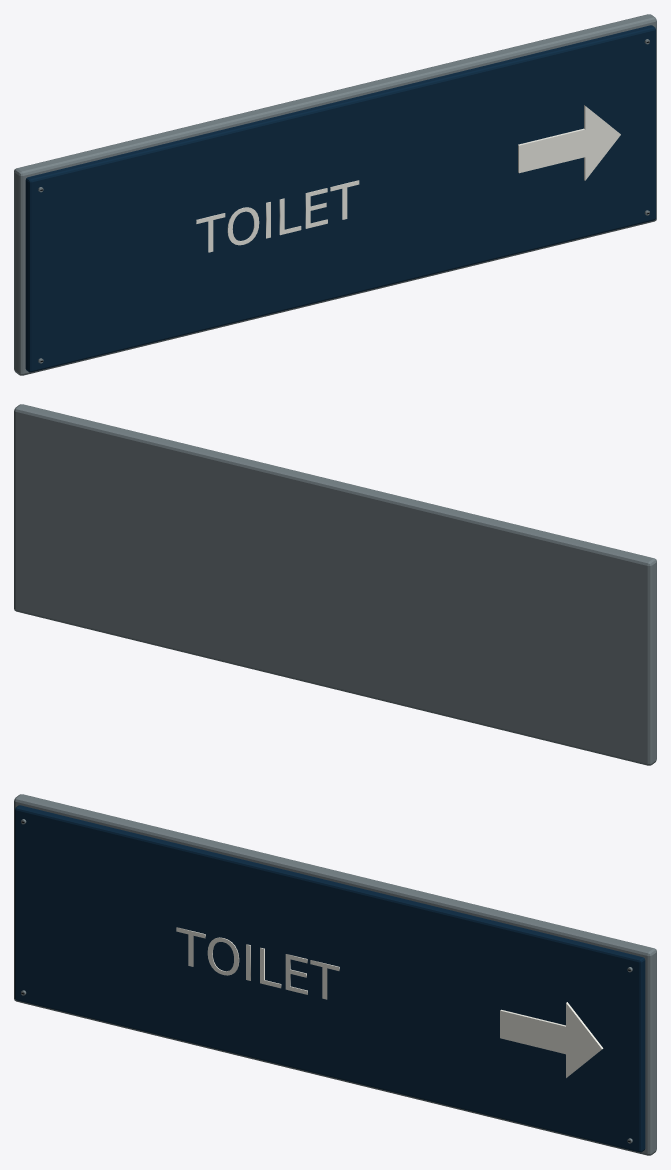
File: OAA_Papan_Arah_Toilet_Kanan.fbx
The picture shows the model from 3 angles, top to bottom: view 1: azimuth 30°, elevation 25°; view 2: azimuth 150°, elevation 25°; view 3: azimuth 330°, elevation 25°; orthographic projection.
Visible parts, largest first — view 1: Body; view 2: Body; view 3: Body.
Part boxes in pixels (x1,y1,x2,y2): Body: (14, 14, 656, 375); Body: (14, 404, 656, 765); Body: (14, 794, 656, 1155).
Bounding box in the file's own units: 0.85 × 0.26 × 0.0325.
